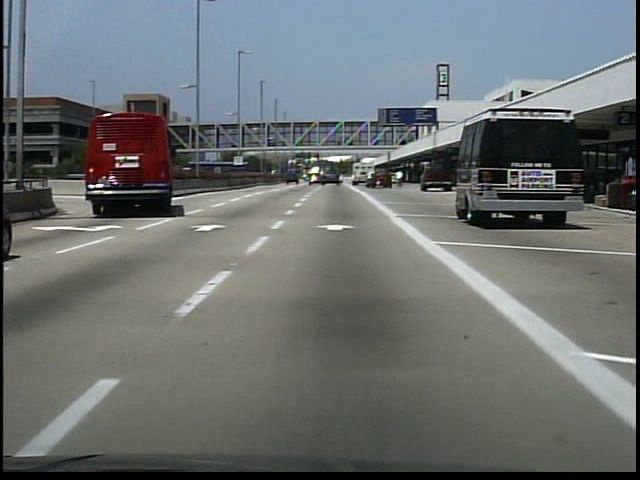person: (392, 169, 406, 191)
